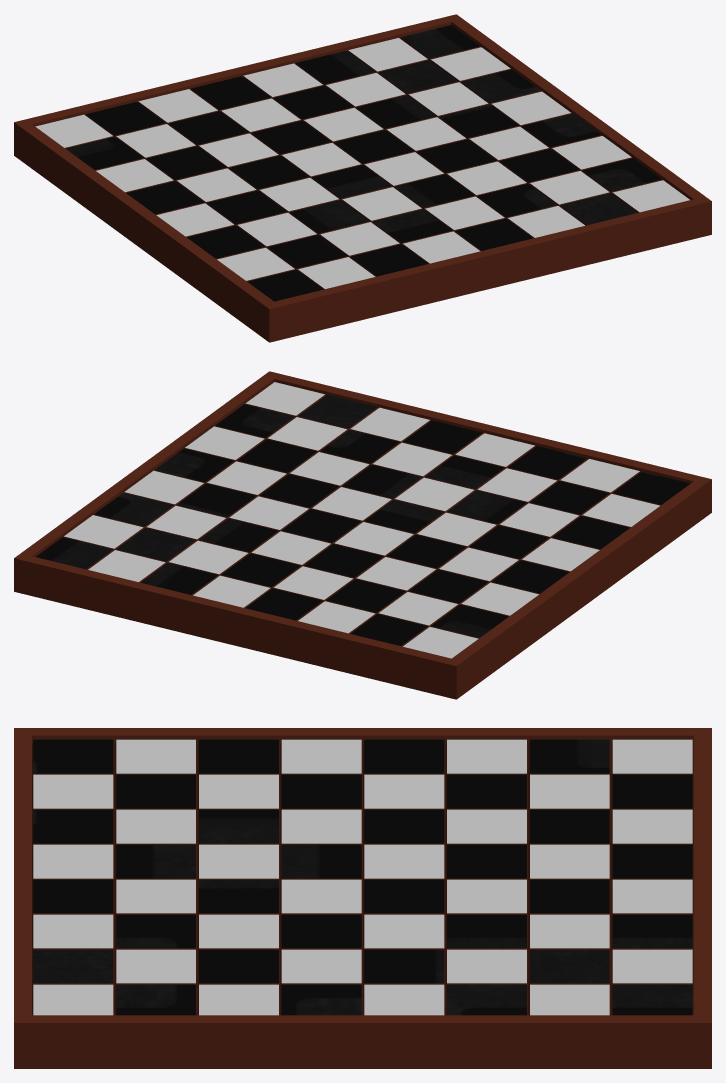
The model's file is board.fbx.
The picture shows the model from 3 angles, top to bottom: view 1: azimuth 30°, elevation 25°; view 2: azimuth 150°, elevation 25°; view 3: azimuth 270°, elevation 25°; orthographic projection. The views are drawn at different scales.
Parts seen in each view (by area): view 1: Board, Board.018, Board.010, Board.017, Board.025, Board.061, Board.003, Board.012, Board.022, Board.027, Board.028, Board.034 (+53 smaller); view 2: Board, Board.053, Board.006, Board.010, Board.054, Board.061, Board.002, Board.003, Board.005, Board.009, Board.013, Board.018 (+53 smaller); view 3: Board, Tile, Board.004, Board.005, Board.014, Board.018, Board.019, Board.021, Board.022, Board.023, Board.045, Board.046 (+53 smaller).
Boxes of the visible parts, <box> form: Board: <box>14,14,711,342</box>; Board.018: <box>207,190,286,224</box>; Board.010: <box>274,85,352,119</box>; Board.017: <box>238,212,316,246</box>; Board.025: <box>320,222,399,255</box>; Board.061: <box>425,196,504,229</box>; Board.003: <box>334,130,413,163</box>; Board.012: <box>500,148,578,182</box>; Board.022: <box>260,178,338,211</box>; Board.027: <box>417,139,496,172</box>; Board.028: <box>364,152,443,185</box>; Board.034: <box>530,171,609,204</box>; Board: <box>14,371,711,699</box>; Board.053: <box>439,547,518,581</box>; Board.006: <box>326,579,405,612</box>; Board.010: <box>221,553,300,586</box>; Board.054: <box>409,569,487,603</box>; Board.061: <box>373,442,451,476</box>; Board.002: <box>403,420,482,453</box>; Board.003: <box>282,509,361,542</box>; Board.005: <box>387,535,465,568</box>; Board.009: <box>116,528,195,561</box>; Board.013: <box>342,464,421,498</box>; Board.018: <box>469,525,548,558</box>; Board: <box>14,728,711,1068</box>; Tile: <box>33,739,113,773</box>; Board.004: <box>364,739,444,773</box>; Board.005: <box>364,809,444,843</box>; Board.014: <box>33,809,113,843</box>; Board.018: <box>281,774,361,808</box>; Board.019: <box>281,739,361,773</box>; Board.021: <box>281,844,361,878</box>; Board.022: <box>281,809,361,843</box>; Board.023: <box>33,844,113,878</box>; Board.045: <box>612,774,692,808</box>; Board.046: <box>612,739,692,773</box>.
Size of the model in its own units: 200 by 14.46 by 200.
